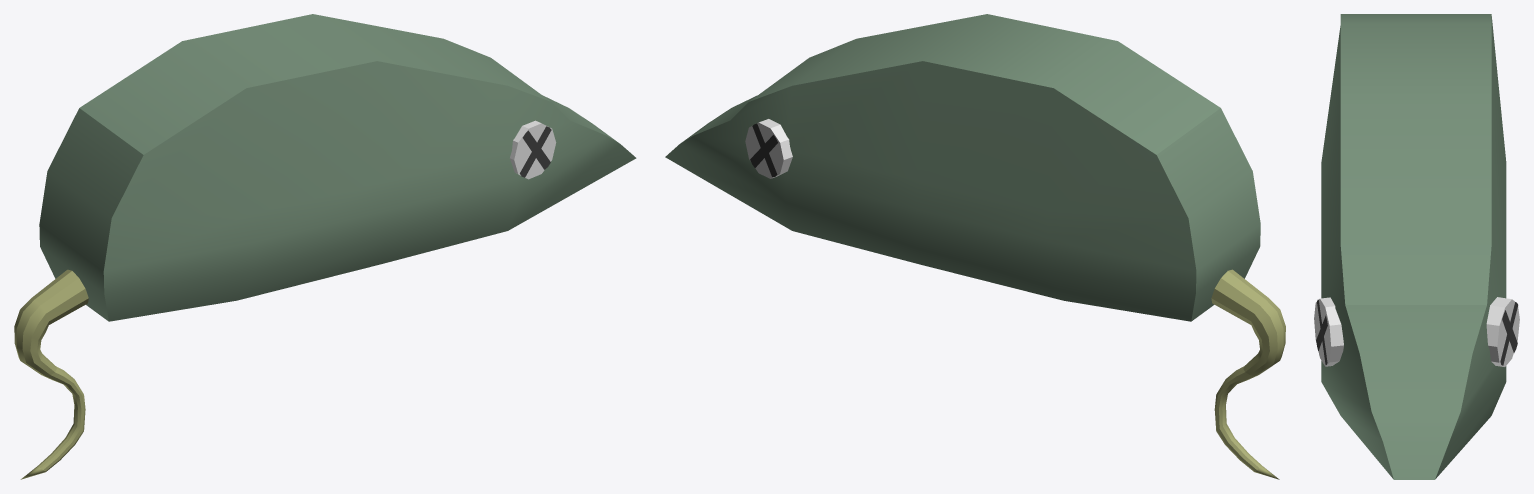
Rendered from RatProjectile.fbx.
The picture shows the model from 3 angles, left to right: view 1: azimuth 30°, elevation 25°; view 2: azimuth 150°, elevation 25°; view 3: azimuth 270°, elevation 25°; orthographic projection. The views are drawn at different scales.
Parts seen in each view (by area): view 1: pTorus6; view 2: pTorus6; view 3: pTorus6.
Part boxes in pixels (x1,y1,x2,y2): pTorus6: (14, 14, 636, 479); pTorus6: (665, 14, 1285, 479); pTorus6: (1314, 14, 1519, 479).
Bounding box in the file's own units: 61.13 × 35.19 × 15.22.
